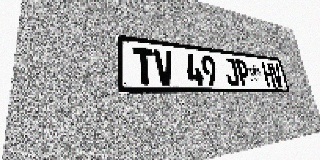4: (185, 53, 204, 86)
9: (200, 55, 219, 86)
H: (261, 62, 276, 87)
J: (223, 57, 240, 86)
P: (235, 59, 251, 86)
T: (132, 47, 156, 85)
V: (153, 49, 175, 85), (270, 63, 284, 87)
